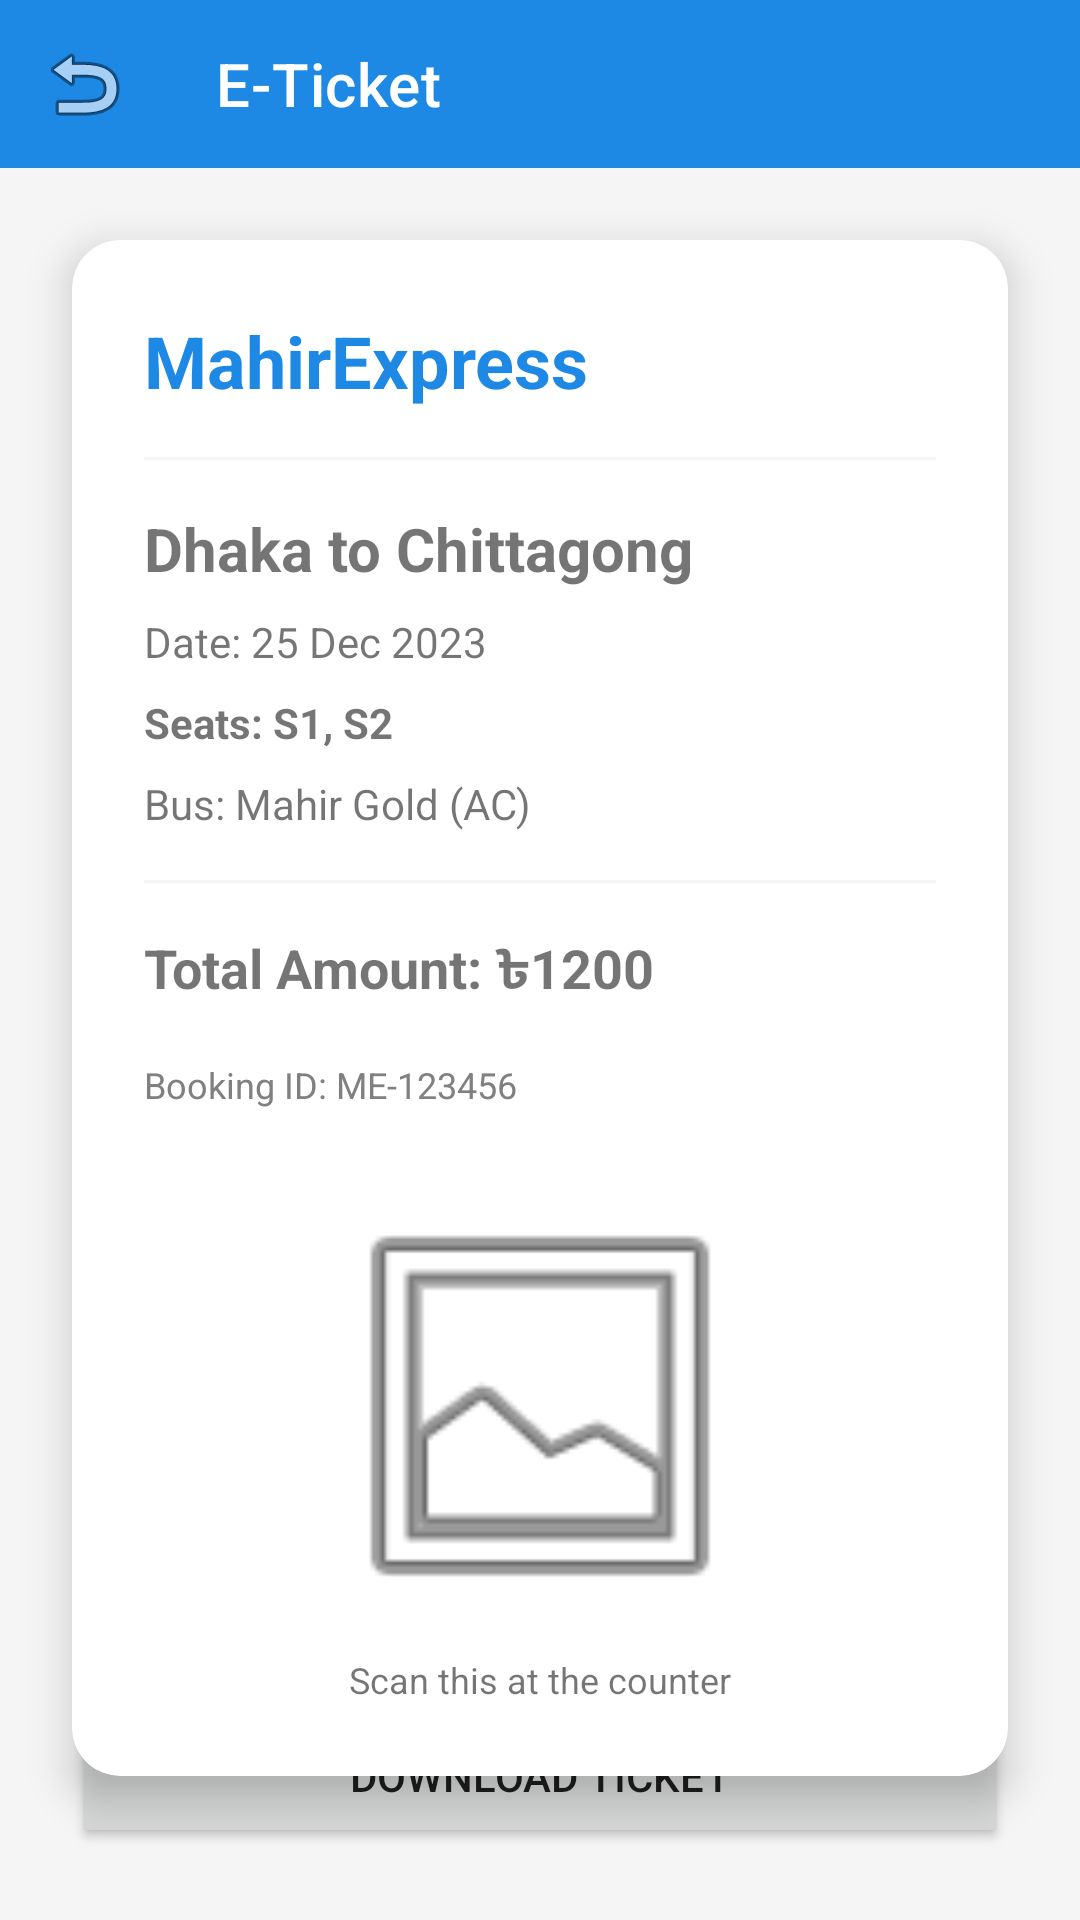

Icon bounding boxes for this 1080 x 1920 phone screenshot, format box=[x1, y1, x2, y2]:
gallery: box=[370, 1236, 710, 1576]
